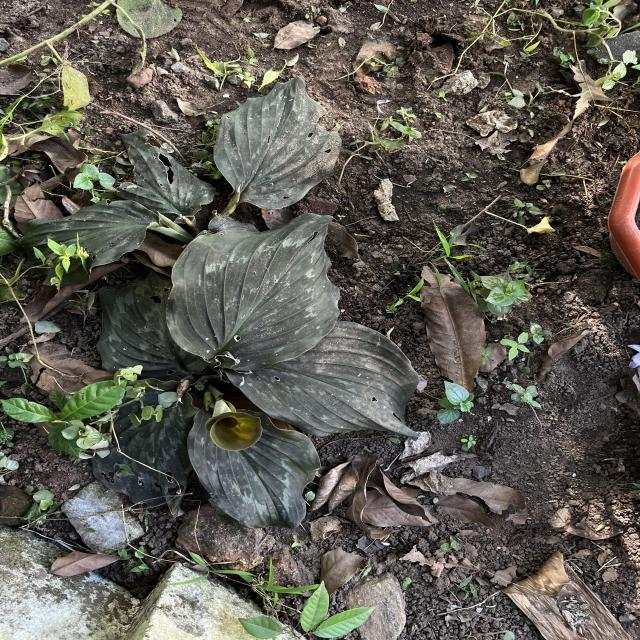Kaempferia galanga linn: (163, 211, 342, 374), (218, 318, 422, 444), (212, 73, 344, 211), (185, 407, 322, 532)
